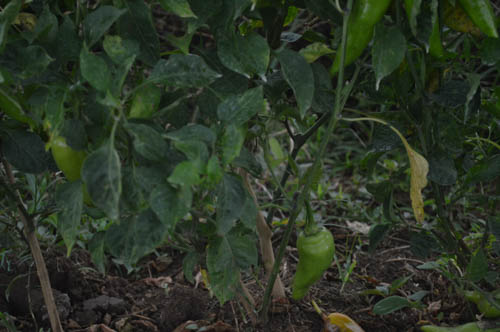ChiliPepper: (331, 5, 391, 76), (292, 233, 335, 301), (51, 139, 93, 189)
